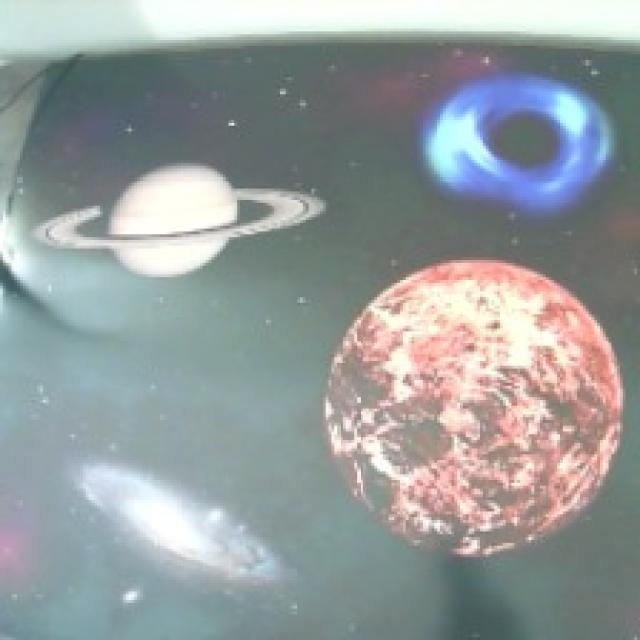Black Hole: (421, 74, 614, 206)
Galaxy: (68, 458, 296, 595)
Saturn: (31, 162, 328, 279)
Sun: (322, 256, 628, 564)
